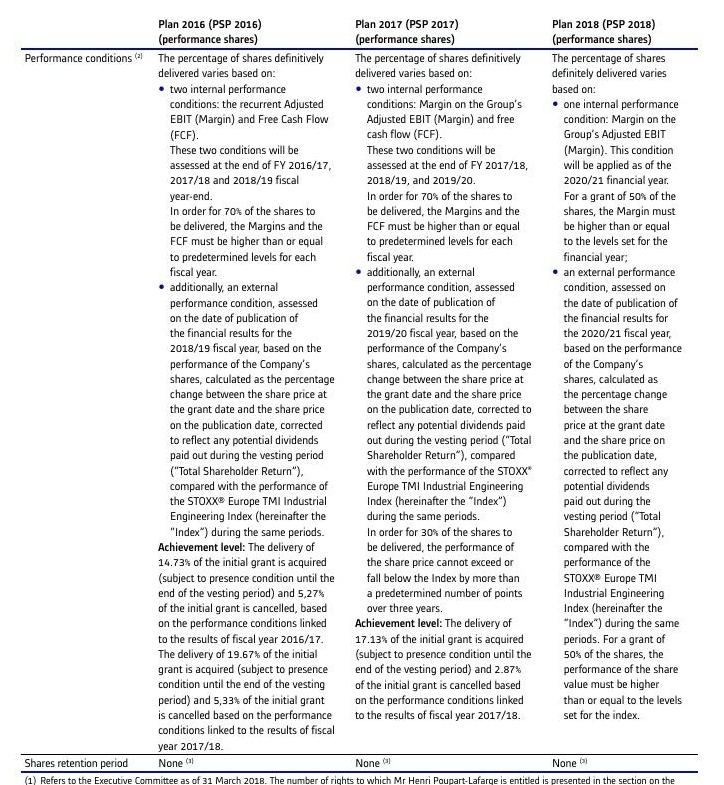table: (0, 0, 724, 785)
